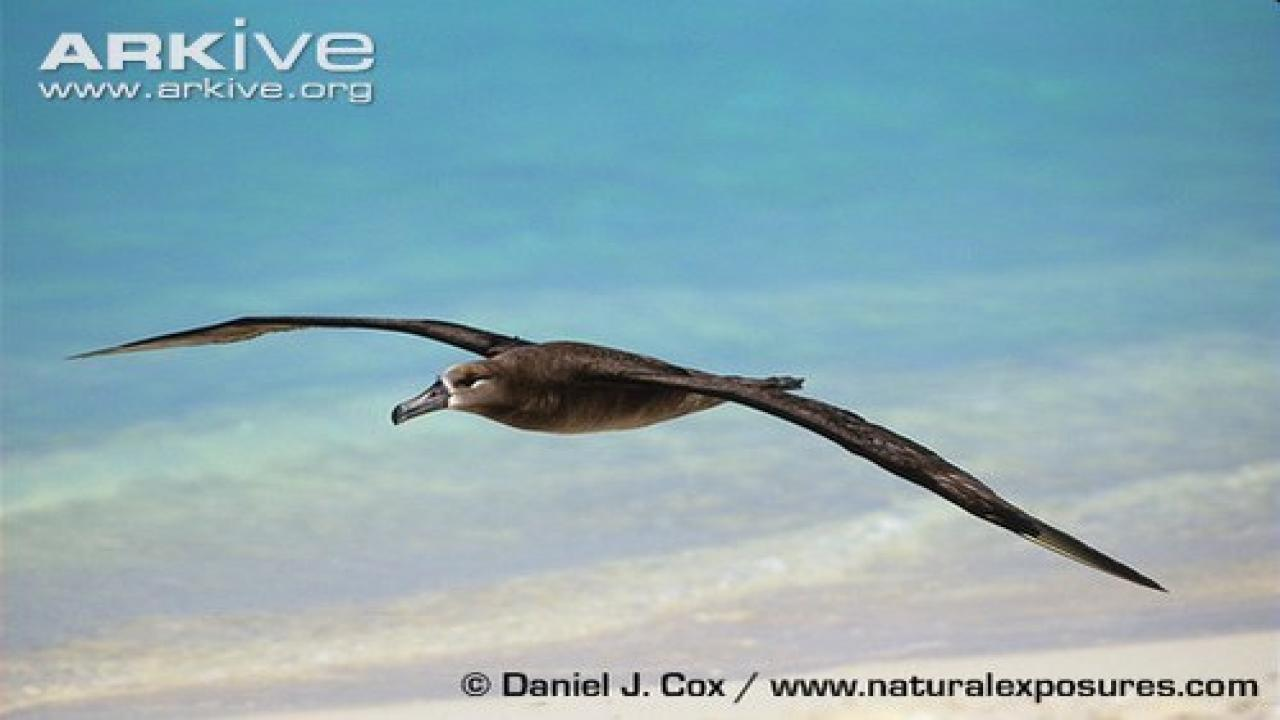Bird: (54, 305, 1180, 600)
